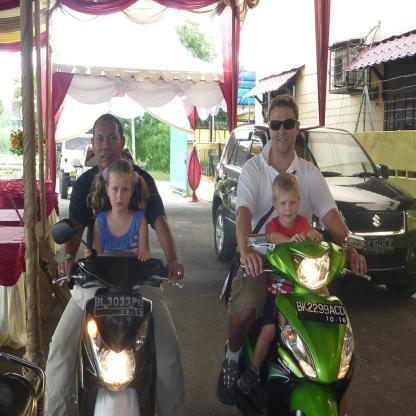car: (216, 121, 416, 305)
motorcycle: (46, 237, 186, 412)
